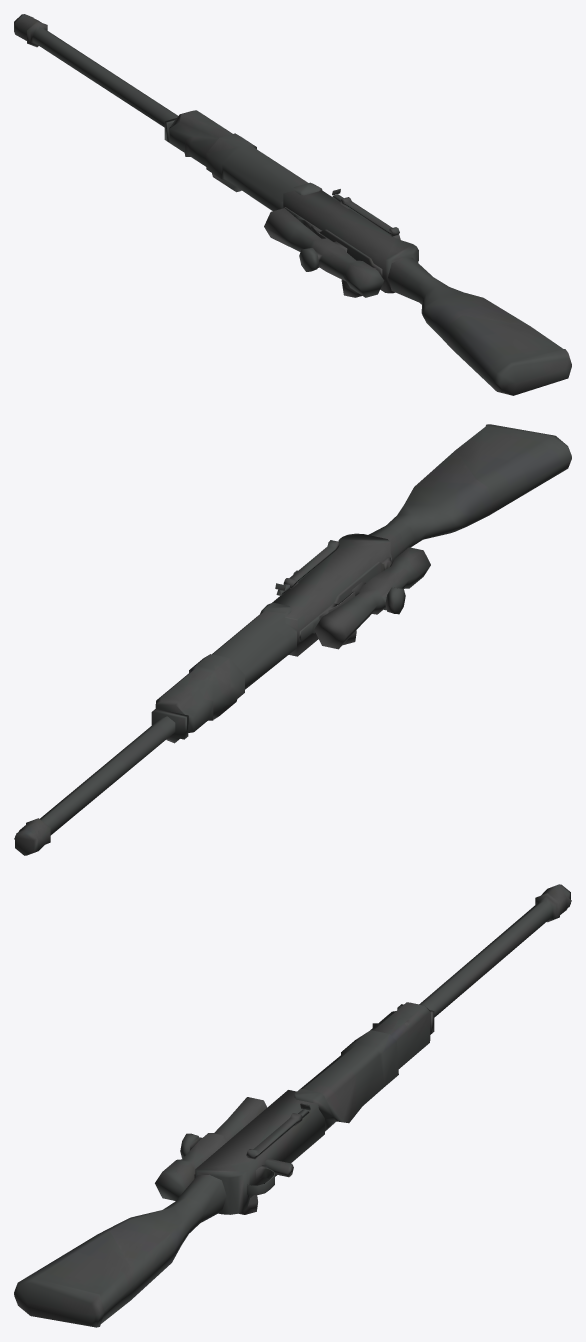
The model's file is m_long_bow_clan.fbx.
3 renders of one model, top to bottom at view 1: azimuth 30°, elevation 25°; view 2: azimuth 150°, elevation 25°; view 3: azimuth 330°, elevation 25°, orthographic. The views are drawn at different scales.
Visible parts, largest first — view 1: tripo_node_cf97017f-7bdc-4339-918a-3ce82c627e94; view 2: tripo_node_cf97017f-7bdc-4339-918a-3ce82c627e94; view 3: tripo_node_cf97017f-7bdc-4339-918a-3ce82c627e94.
Part boxes in pixels (x1,y1,x2,y2): tripo_node_cf97017f-7bdc-4339-918a-3ce82c627e94: (14,14,571,395); tripo_node_cf97017f-7bdc-4339-918a-3ce82c627e94: (14,424,571,855); tripo_node_cf97017f-7bdc-4339-918a-3ce82c627e94: (14,884,571,1327).
Size of the model in its own units: 0.136 by 0.0956 by 1.18.
Materials: 1 (1 with a texture image).
